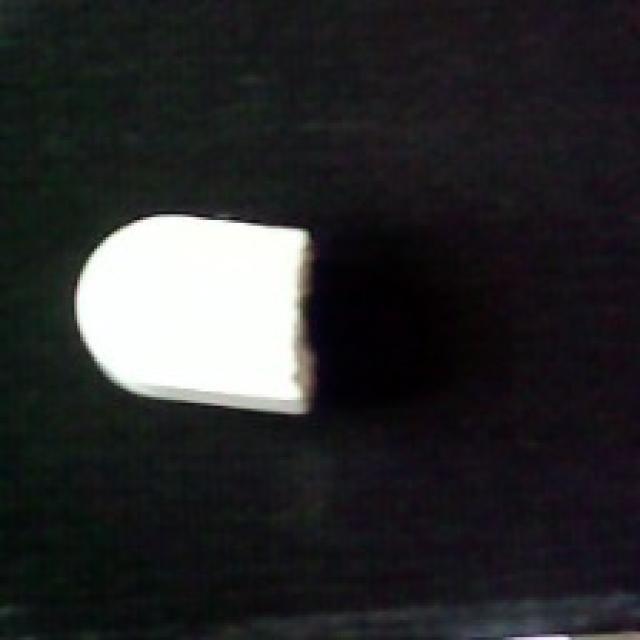defected: (69, 203, 328, 420)
